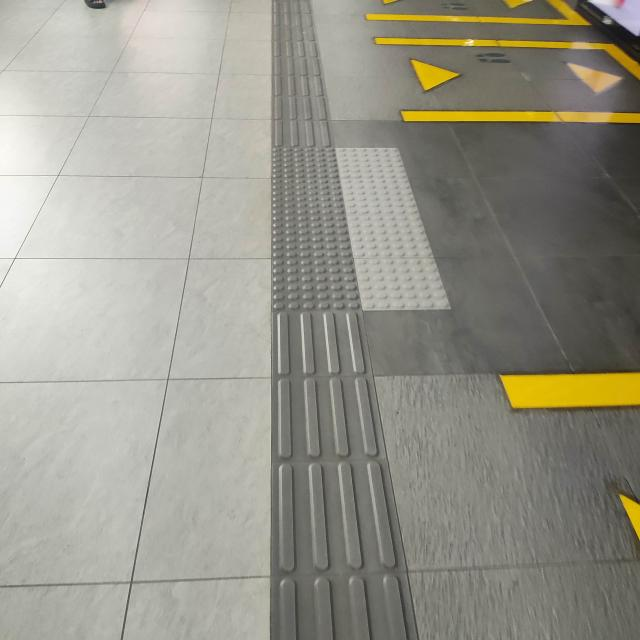lurus: (256, 30, 374, 640)
